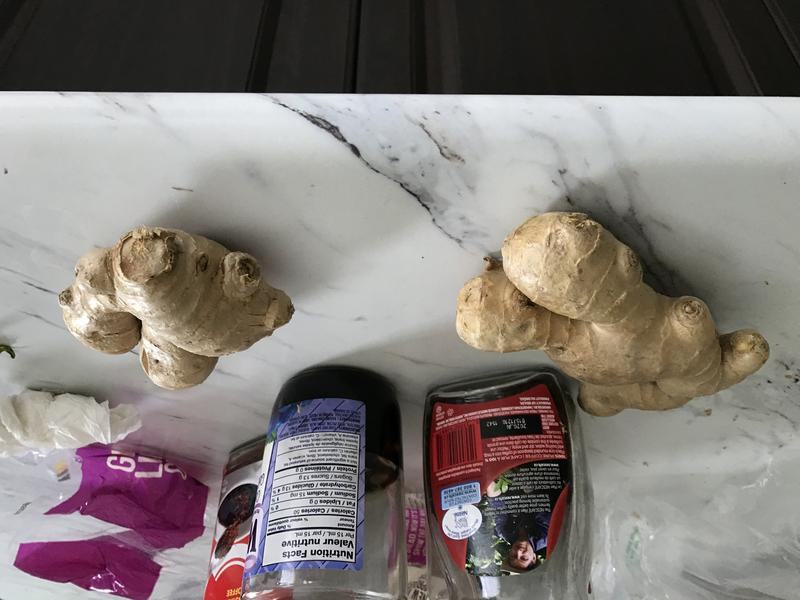ginger: (444, 203, 775, 421), (44, 219, 299, 393)
